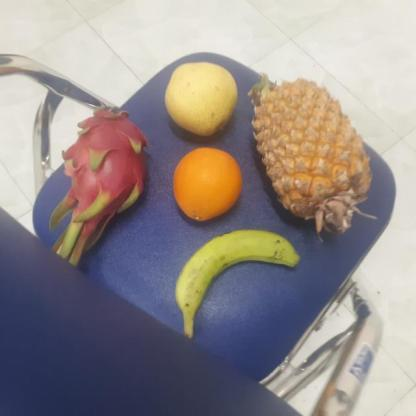banana: (173, 227, 293, 324)
orange: (170, 145, 244, 220)
pear: (162, 58, 240, 137)
pineapple: (245, 79, 370, 234)
pitaya: (62, 110, 147, 215)
